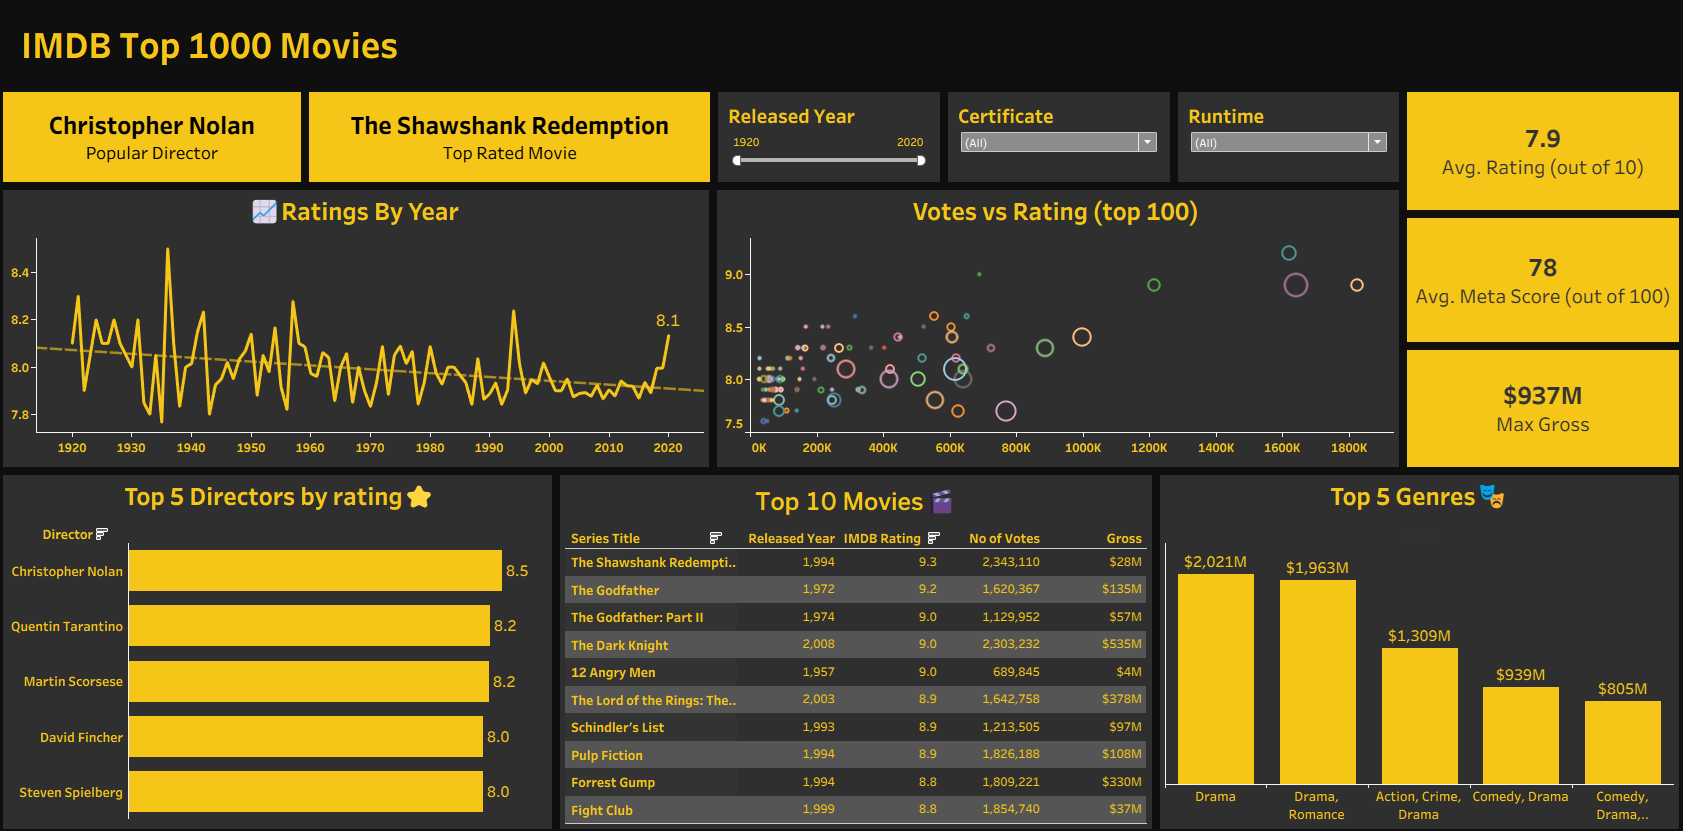

Layout of this report page (visuals, bound fields, positions):
{"tool":"tableau","page":{"name":"Dashboard 1","canvas":[1000,1000],"units":"permille","ordinal":0},"visuals":[{"type":"text","box":[4.7,9.4,990.6,104.3]},{"type":"worksheet","title":"Popular director","mark":"Automatic","box":[4.7,113.7,179.8,115.3]},{"type":"worksheet","title":"Top Rated Movie","mark":"Automatic","box":[184.5,113.7,240.7,115.3]},{"type":"filter","title":"Top 10 Movies","param":"[federated.0uabs110kgd9091ctensb1hq5gzb].[none:Released_Year:qk]","box":[425.2,113.7,135.3,115.3]},{"type":"filter","title":"Top 10 Movies","param":"[federated.0uabs110kgd9091ctensb1hq5gzb].[none:Certificate:nk]","box":[560.5,113.7,135.2,115.3]},{"type":"filter","title":"Votes vs Rating (top 100)","param":"[federated.0uabs110kgd9091ctensb1hq5gzb].[none:Runtime:nk]","box":[695.8,113.7,135,115.3]},{"type":"worksheet","title":"Avg. Rating","mark":"Automatic","box":[830.8,113.7,164.5,148.2]},{"type":"worksheet","title":"Ratings By Year","mark":"Automatic","rows":["IMDB_Rating"],"cols":["Released_Year"],"box":[4.7,229,420.2,335.3]},{"type":"worksheet","title":"Votes vs Rating (top 100)","mark":"Automatic","rows":["IMDB_Rating"],"cols":["No_of_Votes"],"box":[424.9,229,405.9,335.3]},{"type":"worksheet","title":"Avg. Meta Score","mark":"Automatic","box":[830.8,262,164.5,155.3]},{"type":"worksheet","title":"Highest Gross ","mark":"Automatic","box":[830.8,417.2,164.5,147.1]},{"type":"worksheet","title":"Top 5 Directors by rating","mark":"Automatic","rows":["Director"],"cols":["IMDB_Rating"],"box":[4.7,564.3,327.8,426.3]},{"type":"worksheet","title":"Top 10 Movies","mark":"Automatic","rows":["Series_Title"],"box":[332.5,564.3,353,426.3]},{"type":"worksheet","title":"Top 5 Genres","mark":"Automatic","rows":["Gross"],"cols":["Genre"],"box":[685.5,564.3,309.8,426.3]}]}

Visuals, with their boxes on the dashboard's canvas, which has no fixed pixel size, in thousandths of its width and height (x1, y1, x2, y2). These are canvas units, not pixel positions in the 1683x831 screenshot, which may show the page scaled, cropped or inside an application window:
text: 5/9/995/114
"Popular director" worksheet: 5/114/184/229
"Top Rated Movie" worksheet: 184/114/425/229
"Top 10 Movies" filter: 425/114/560/229
"Top 10 Movies" filter: 560/114/696/229
"Votes vs Rating (top 100)" filter: 696/114/831/229
"Avg. Rating" worksheet: 831/114/995/262
"Ratings By Year" worksheet: 5/229/425/564
"Votes vs Rating (top 100)" worksheet: 425/229/831/564
"Avg. Meta Score" worksheet: 831/262/995/417
"Highest Gross " worksheet: 831/417/995/564
"Top 5 Directors by rating" worksheet: 5/564/332/991
"Top 10 Movies" worksheet: 332/564/686/991
"Top 5 Genres" worksheet: 686/564/995/991
